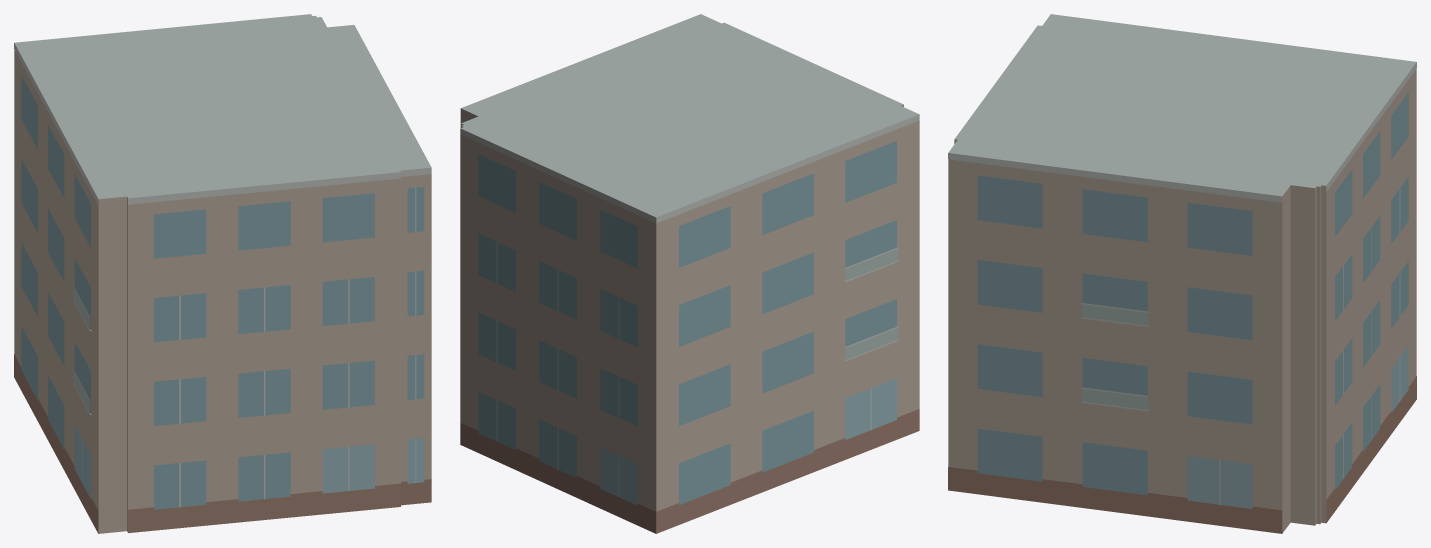
The model's file is survey-upis-32923432.glb.
3 renders of one model, left to right at view 1: azimuth 30°, elevation 25°; view 2: azimuth 150°, elevation 25°; view 3: azimuth 270°, elevation 25°, orthographic. The views are drawn at different scales.
Visible parts, largest first — view 1: survey-upis-32923432.tmp; view 2: survey-upis-32923432.tmp; view 3: survey-upis-32923432.tmp.
Part boxes in pixels (x1,y1,x2,y2): survey-upis-32923432.tmp: (14, 14, 431, 533); survey-upis-32923432.tmp: (460, 14, 919, 533); survey-upis-32923432.tmp: (948, 14, 1416, 533).
Size of the model in its own units: 14.92 by 12.86 by 16.19.
